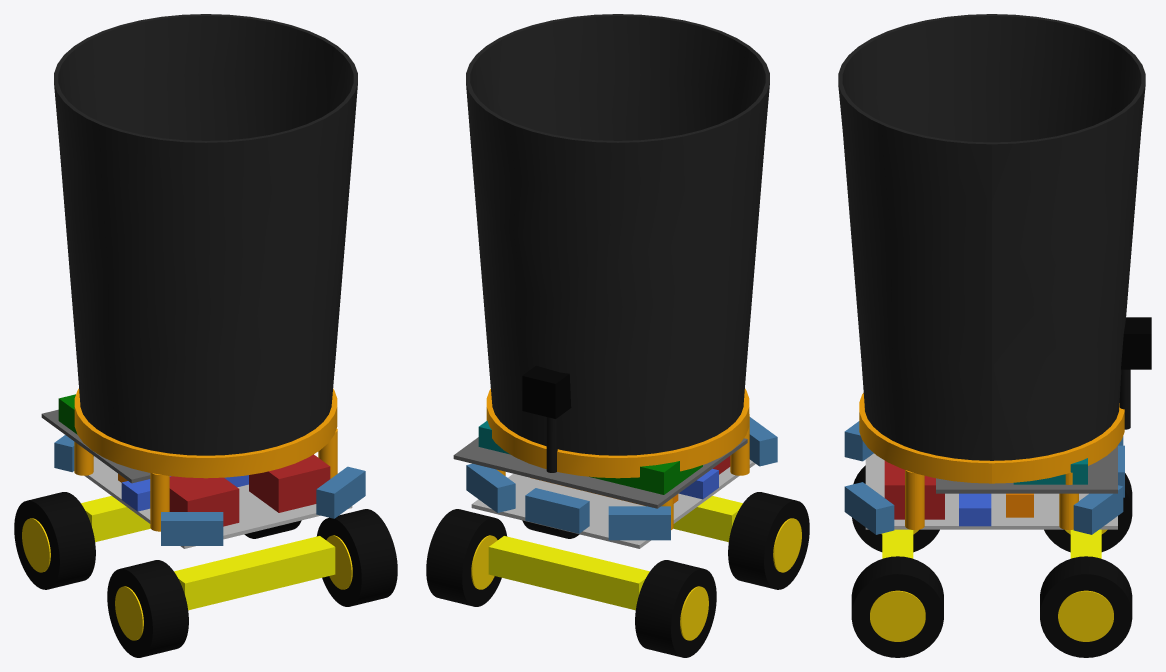
File: fetch_v2_assembly.glb
3 views of the same model, side by side, from view 1: azimuth 30°, elevation 25°; view 2: azimuth 150°, elevation 25°; view 3: azimuth 270°, elevation 25° (orthographic).
Parts seen in each view (by area): view 1: trashcan_620g, can_crown, mecanum_RL, mecanum_FL, mecanum_RR, tt_motor_1_-1, tt_motor_-1_-1, chassis_plate, L298N_2, L298N_1, HCSR04_4, tt_motor_-1_1 (+8 smaller); view 2: trashcan_620g, can_crown, mecanum_FL, mecanum_RL, mecanum_FR, mid_deck, chassis_plate, tt_motor_-1_1, tt_motor_1_1, HCSR04_1, webcam_on_servo, HCSR04_2 (+10 smaller); view 3: trashcan_620g, can_crown, mecanum_RR, mecanum_FR, chassis_plate, mid_deck, hub_1_-1, hub_1_1, HCSR04_5, L298N_2, HCSR04_3, webcam_on_servo (+11 smaller).
Part boxes in pixels (<box>): trashcan_620g: <box>54,14,357,455</box>; can_crown: <box>74,388,337,478</box>; mecanum_RL: <box>107,560,188,657</box>; mecanum_FL: <box>14,492,95,589</box>; mecanum_RR: <box>316,509,397,606</box>; tt_motor_1_-1: <box>242,536,335,593</box>; tt_motor_-1_-1: <box>174,553,261,610</box>; chassis_plate: <box>84,456,352,548</box>; L298N_2: <box>249,454,330,512</box>; L298N_1: <box>169,476,239,526</box>; HCSR04_4: <box>161,512,223,545</box>; tt_motor_-1_1: <box>81,496,150,542</box>; trashcan_620g: <box>466,14,769,455</box>; can_crown: <box>486,388,749,478</box>; mecanum_FL: <box>635,560,716,657</box>; mecanum_RL: <box>728,492,809,589</box>; mecanum_FR: <box>426,509,507,606</box>; mid_deck: <box>453,437,747,508</box>; chassis_plate: <box>471,459,755,548</box>; tt_motor_-1_1: <box>561,555,649,610</box>; tt_motor_1_1: <box>488,536,581,591</box>; HCSR04_1: <box>525,488,589,533</box>; webcam_on_servo: <box>522,365,571,418</box>; HCSR04_2: <box>608,506,670,540</box>; trashcan_620g: <box>838,14,1145,460</box>; can_crown: <box>859,393,1124,483</box>; mecanum_RR: <box>851,556,943,657</box>; mecanum_FR: <box>1040,556,1132,657</box>; chassis_plate: <box>865,453,1117,529</box>; mid_deck: <box>936,445,1117,493</box>; hub_1_-1: <box>870,590,925,641</box>; hub_1_1: <box>1058,590,1113,641</box>; HCSR04_5: <box>844,482,894,534</box>; L298N_2: <box>884,461,944,519</box>; HCSR04_3: <box>1073,485,1123,534</box>; webcam_on_servo: <box>1121,317,1151,369</box>.
Bounding box in the file's own units: 0.22 × 0.408 × 0.2237.
